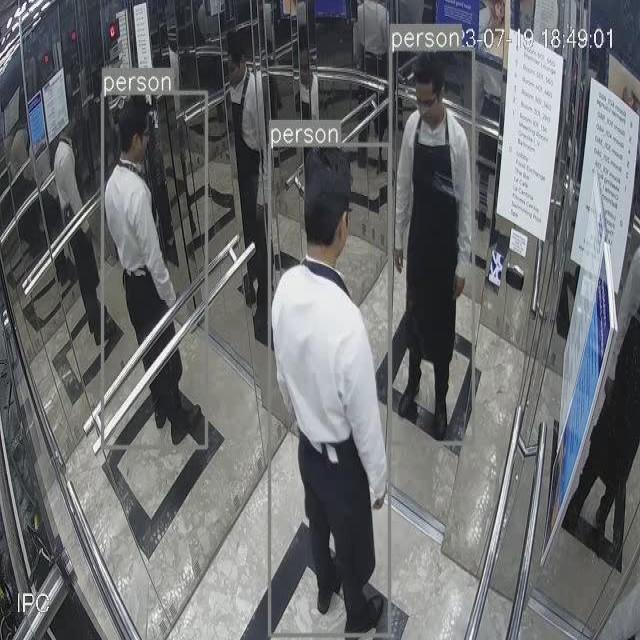person: (270, 148, 390, 631), (102, 92, 207, 448), (391, 48, 473, 439)
